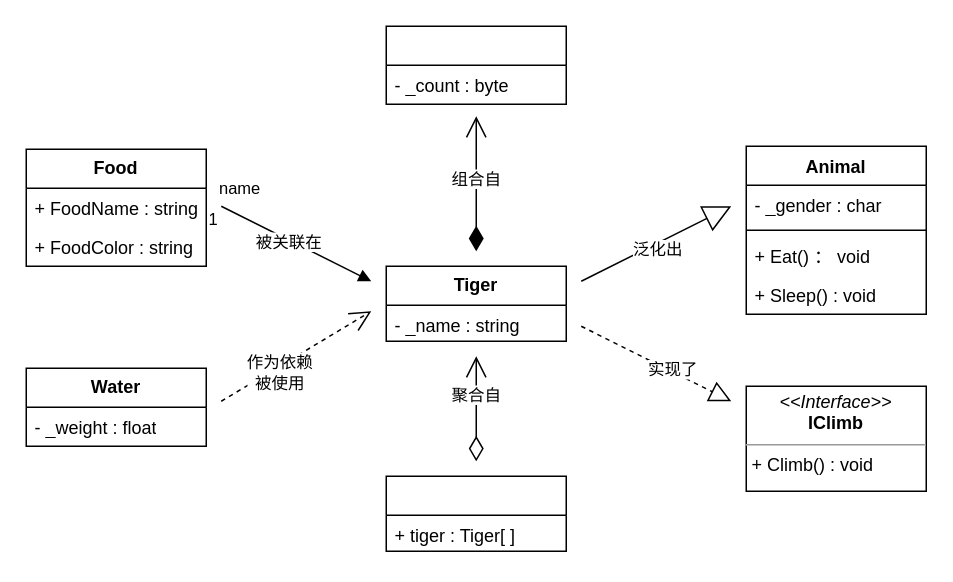
Image size: 953x582. Some labels were removed from this diagram. Here are the shapes that lost their labels. From the top down, the box of each, then its label:
(385, 25, 566, 104): Leg
(385, 475, 566, 551): TigerGroup
